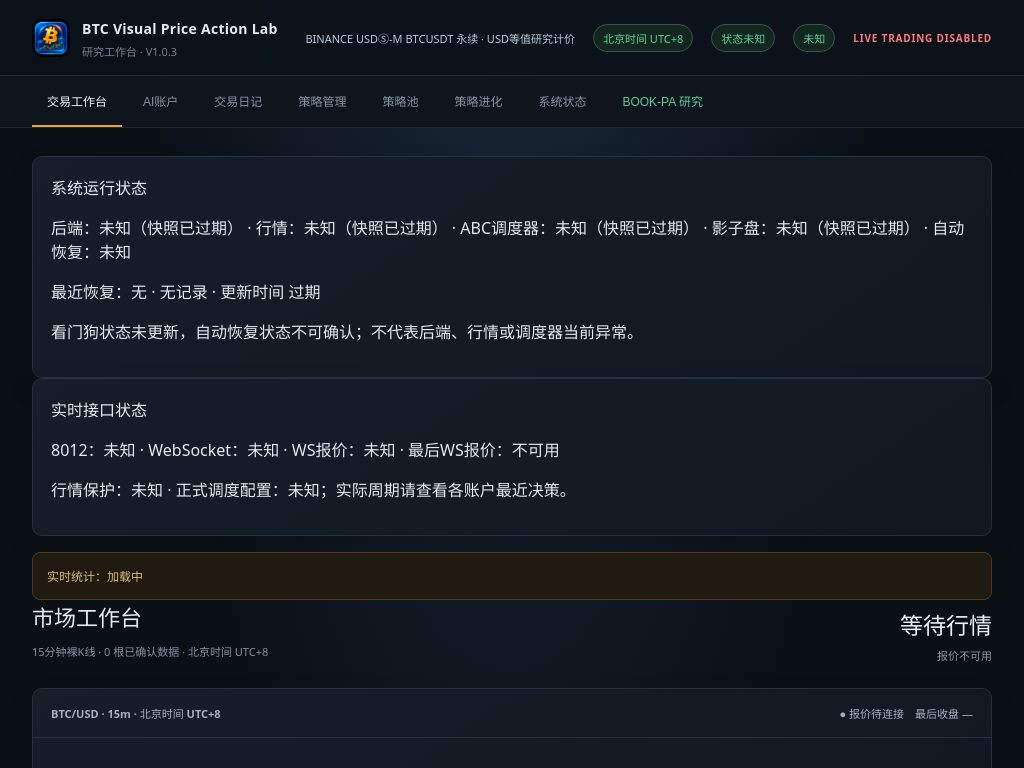
workbench safeguards › opens the separate BOOK-PA view and returns to the workbench
Click the button "BOOK-PA 研究".
click(663, 102)  # box [607,76,718,127]
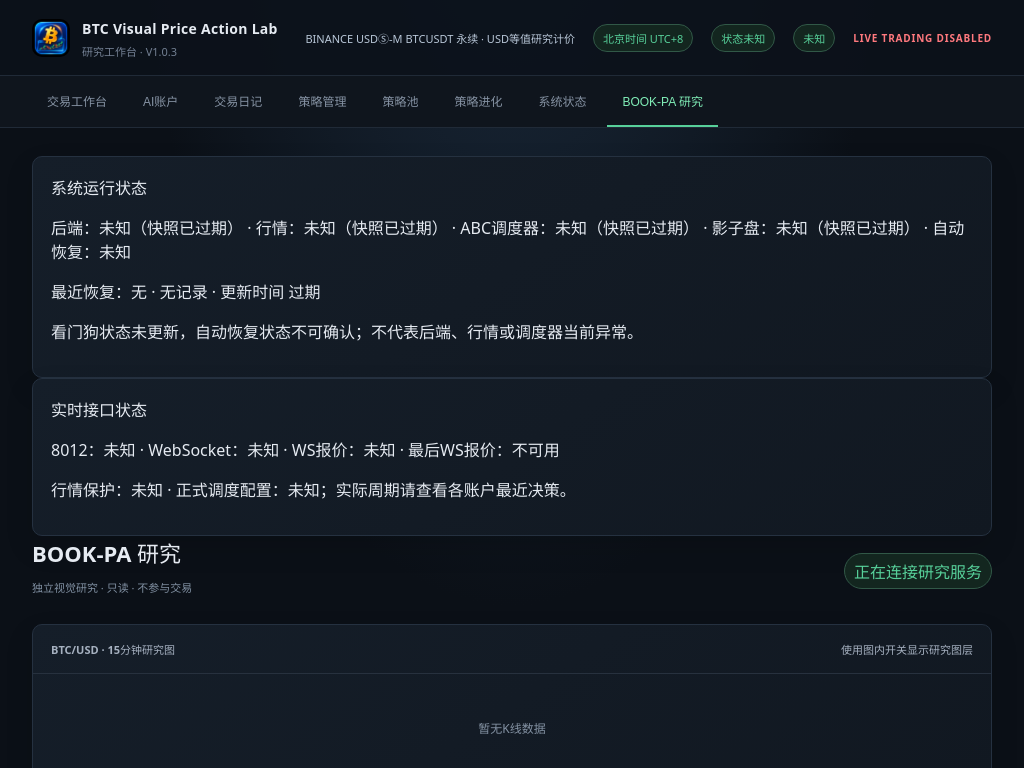
Check: the heading "BOOK-PA 研究" is shown, box [32,536,192,568]
Click the button "交易工作台".
click(77, 102)  # box [32,76,122,127]
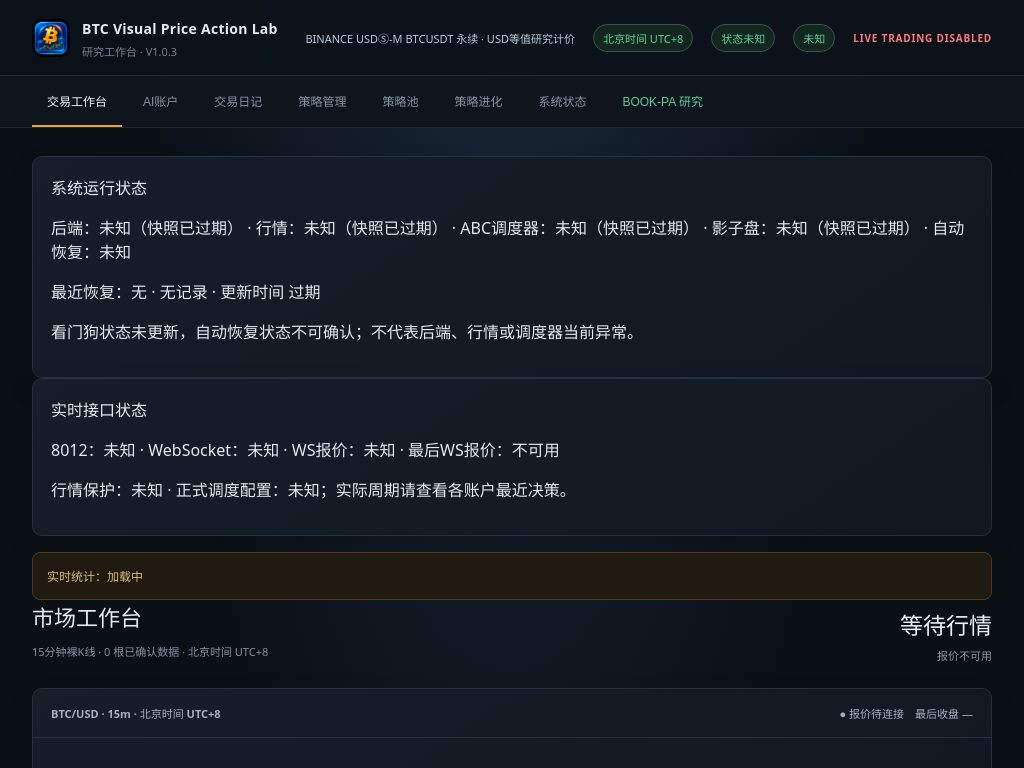
Check: the heading "市场工作台" is shown, box [32,602,142,632]
